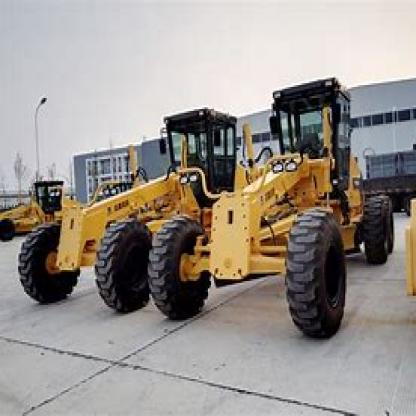bull_dozer/loader/grader: (142, 65, 402, 340)
